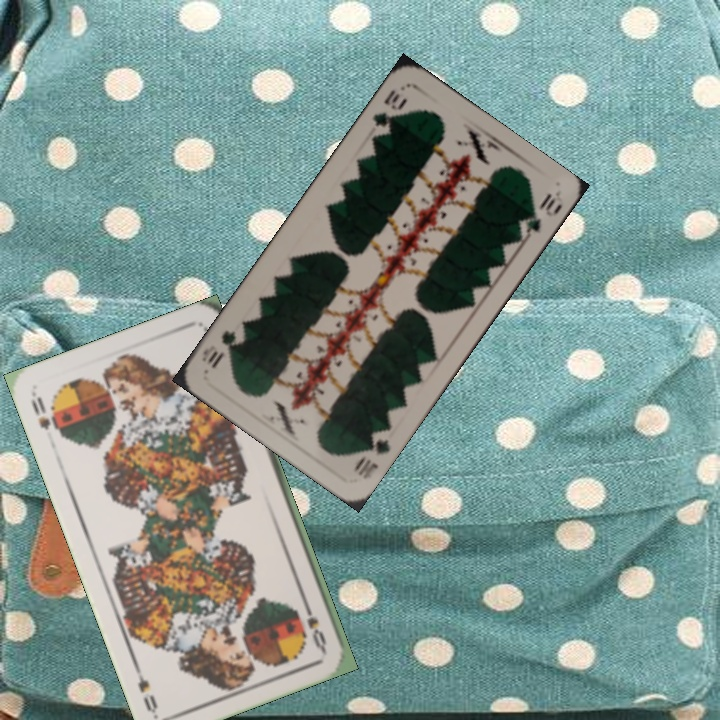G10: (349, 425, 393, 482), (368, 86, 410, 131)
SO: (299, 597, 329, 654), (27, 389, 60, 433)
